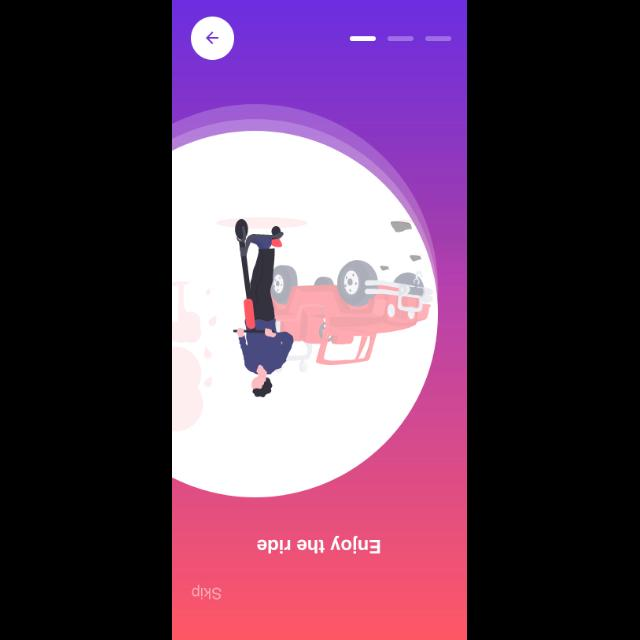icon: (191, 16, 235, 60)
image: (172, 218, 434, 430)
pageindicator: (350, 36, 452, 42)
text: (258, 534, 380, 554), (192, 584, 222, 600)
